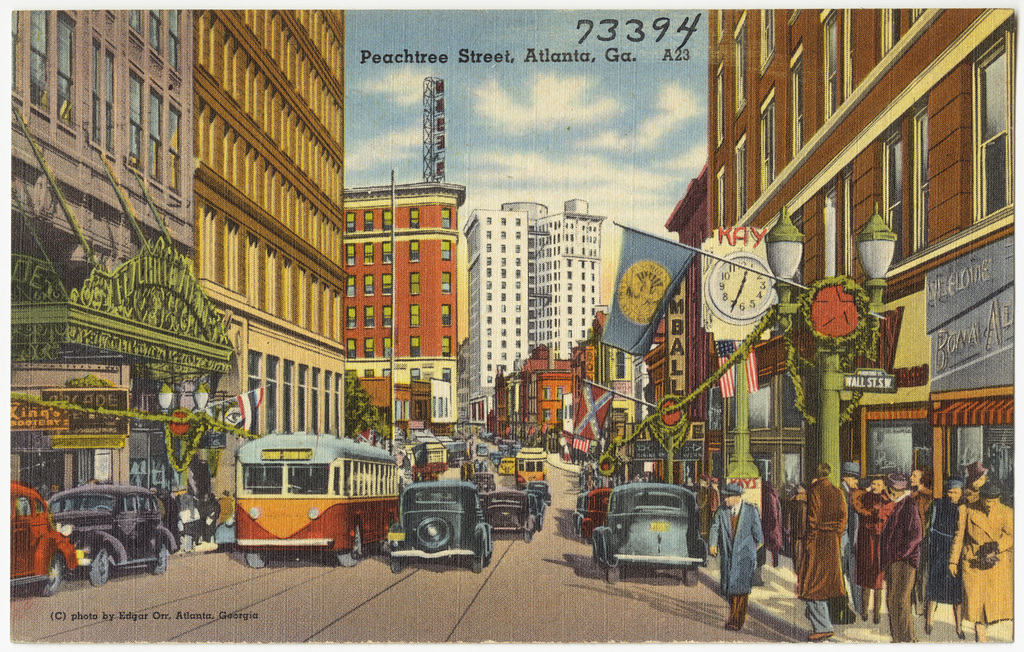Car: (47, 484, 179, 587), (593, 482, 712, 585), (391, 482, 493, 568), (10, 484, 78, 592), (486, 484, 533, 545), (578, 487, 611, 536)
